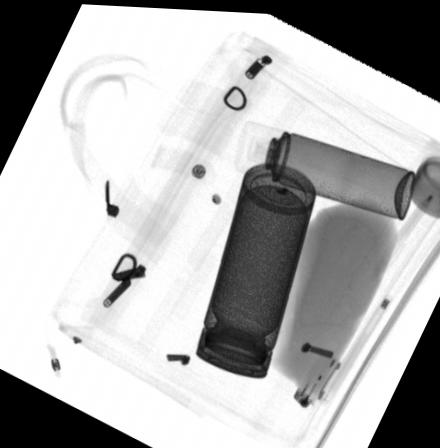Lighter: (291, 343, 340, 406)
Sprayer: (232, 116, 415, 217)
